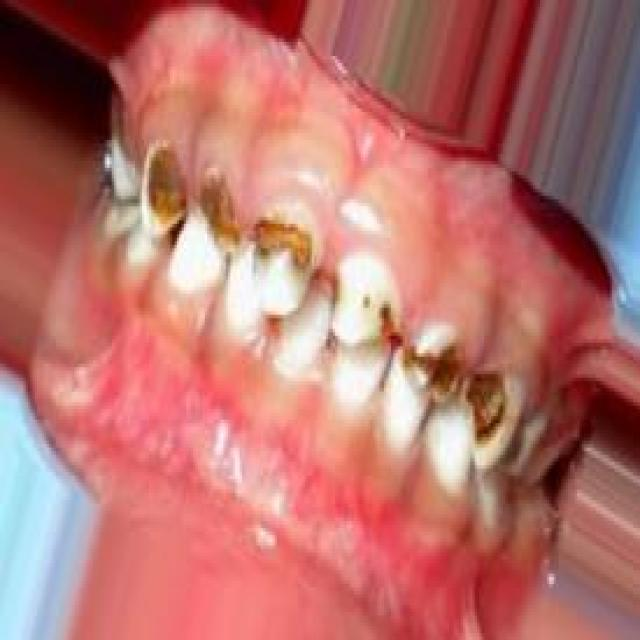caries: (252, 195, 326, 322), (330, 249, 398, 350), (403, 318, 466, 418), (134, 140, 190, 249), (196, 159, 247, 271), (467, 359, 518, 461)
